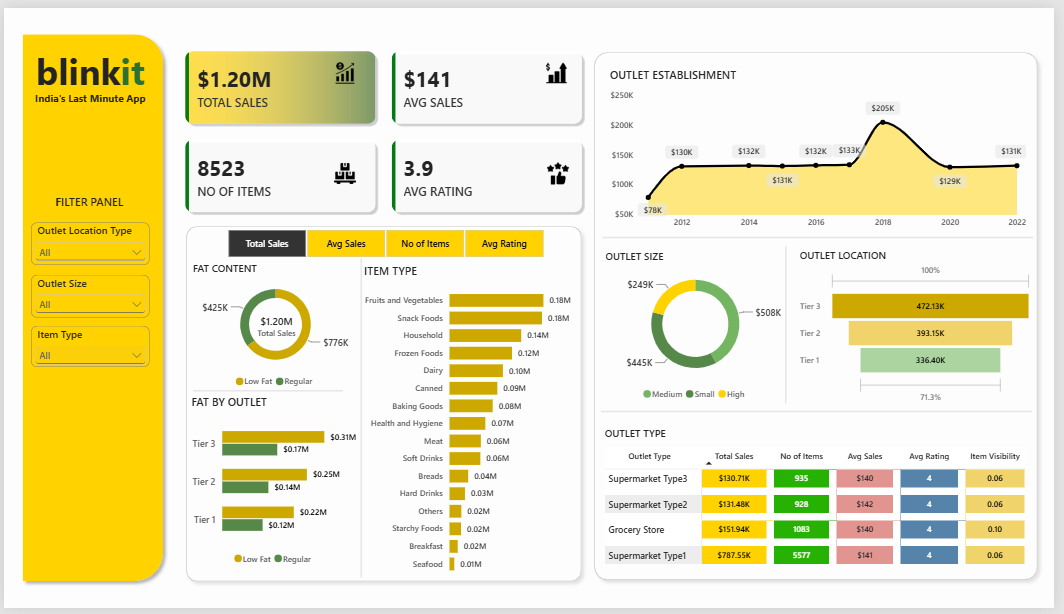

The page's visual inventory and layout, read from the dashboard file:
{"tool":"powerbi","page":{"name":"Page 1","canvas":[1400,800],"ordinal":0},"visuals":[{"type":"shape","box":[16,26,205,747],"z":0},{"type":"textbox","box":[36.7,50,158.3,71.7],"z":1000},{"type":"textbox","box":[36.7,110,158.3,23.3],"z":2000},{"type":"cardVisual","fields":{"Data":["BlinkIT Grocery Data.Total Sales","BlinkIT Grocery Data.Avg Sales","BlinkIT Grocery Data.No of Items","BlinkIT Grocery Data.Avg Rating"]},"box":[233.3,50,545,231.7],"z":3000},{"type":"image","box":[435,71.7,37,29],"z":4000},{"type":"image","box":[718.3,71.7,37,29],"z":5000},{"type":"image","box":[435,205,37,29],"z":6000},{"type":"image","box":[720,205,37,29],"z":7000},{"type":"shape","box":[233.3,281.7,545,491.7],"z":8000},{"type":"donutChart","title":"FAT CONTENT","fields":{"Y":["BlinkIT Grocery Data.Total Sales"],"Category":["BlinkIT Grocery Data.Item Fat Content"]},"box":[252.7,334.5,220,176.4],"z":9000},{"type":"slicer","fields":{"Values":["Metrics.Metrics"]},"box":[278.2,294.5,460,40],"z":10000},{"type":"cardVisual","fields":{"Data":["BlinkIT Grocery Data.Total Sales"]},"box":[320,405.5,87.3,36.4],"z":11000},{"type":"clusteredBarChart","title":"FAT BY OUTLET","fields":{"Y":["BlinkIT Grocery Data.Total Sales"],"Category":["BlinkIT Grocery Data.Outlet Location Type"],"Series":["BlinkIT Grocery Data.Item Fat Content"]},"box":[250.9,514.5,220,232.7],"z":12000},{"type":"shape","box":[252.7,494.5,200,32.7],"z":13000},{"type":"shape","box":[460,334.5,32.7,425.5],"z":14000},{"type":"barChart","title":"ITEM TYPE","fields":{"Y":["BlinkIT Grocery Data.Total Sales"],"Category":["BlinkIT Grocery Data.Item Type"]},"box":[476.4,334.5,280,425.5],"z":15000},{"type":"shape","box":[778.2,50.9,609.1,721.8],"z":16000},{"type":"lineChart","title":"OUTLET ESTABLISHMENT","fields":{"Category":["BlinkIT Grocery Data.Outlet Establishment Year"],"Y":["BlinkIT Grocery Data.Total Sales"]},"box":[798.2,70.9,574.5,234.5],"z":17000},{"type":"shape","box":[796.4,527.3,574.5,20],"z":18000},{"type":"donutChart","title":"OUTLET SIZE","fields":{"Y":["BlinkIT Grocery Data.Total Sales"],"Category":["BlinkIT Grocery Data.Outlet Size"]},"box":[798.2,318.2,243.6,209.1],"z":19000},{"type":"shape","box":[1025.5,318.2,32.7,209.1],"z":20000},{"type":"funnel","title":"OUTLET LOCATION","fields":{"Y":["Sum(BlinkIT Grocery Data.Sales)"],"Category":["BlinkIT Grocery Data.Outlet Location Type"]},"box":[1058.2,316.4,312.7,210.9],"z":21000},{"type":"shape","box":[798.2,296.4,574.5,20],"z":22000},{"type":"pivotTable","title":"OUTLET TYPE","fields":{"Rows":["BlinkIT Grocery Data.Outlet Type"],"Values":["BlinkIT Grocery Data.Total Sales","BlinkIT Grocery Data.No of Items","BlinkIT Grocery Data.Avg Sales","BlinkIT Grocery Data.Avg Rating","Avg(BlinkIT Grocery Data.Item Visibility)"]},"box":[798.2,547.3,574.5,200],"z":23000},{"type":"slicer","fields":{"Values":["BlinkIT Grocery Data.Outlet Location Type"]},"box":[36.4,285.5,158.2,56.4],"z":24000},{"type":"slicer","fields":{"Values":["BlinkIT Grocery Data.Outlet Size"]},"box":[36.4,356.4,158.2,56.4],"z":25000},{"type":"slicer","fields":{"Values":["BlinkIT Grocery Data.Item Type"]},"box":[36.4,423.6,158.2,54.5],"z":26000},{"type":"textbox","box":[52.7,247.3,123.6,20],"z":27000}]}

Visuals, with their boxes in screenshot pixels (x1, y1, x2, y2), scaled from the page's 1400x800 canvas onto the 1064x614 screenshot:
shape: BBox(12, 20, 168, 593)
textbox: BBox(28, 38, 148, 93)
textbox: BBox(28, 84, 148, 102)
cardVisual - BlinkIT Grocery Data.Total Sales x BlinkIT Grocery Data.Avg Sales: BBox(177, 38, 592, 216)
image: BBox(331, 55, 359, 77)
image: BBox(546, 55, 574, 77)
image: BBox(331, 157, 359, 180)
image: BBox(547, 157, 575, 180)
shape: BBox(177, 216, 592, 594)
"FAT CONTENT" donutChart: BBox(192, 257, 359, 392)
slicer - Metrics.Metrics: BBox(211, 226, 561, 257)
cardVisual - BlinkIT Grocery Data.Total Sales: BBox(243, 311, 310, 339)
"FAT BY OUTLET" clusteredBarChart: BBox(191, 395, 358, 573)
shape: BBox(192, 380, 344, 405)
shape: BBox(350, 257, 374, 583)
"ITEM TYPE" barChart: BBox(362, 257, 575, 583)
shape: BBox(591, 39, 1054, 593)
"OUTLET ESTABLISHMENT" lineChart: BBox(607, 54, 1043, 234)
shape: BBox(605, 405, 1042, 420)
"OUTLET SIZE" donutChart: BBox(607, 244, 792, 405)
shape: BBox(779, 244, 804, 405)
"OUTLET LOCATION" funnel: BBox(804, 243, 1042, 405)
shape: BBox(607, 227, 1043, 243)
"OUTLET TYPE" pivotTable: BBox(607, 420, 1043, 574)
slicer - BlinkIT Grocery Data.Outlet Location Type: BBox(28, 219, 148, 262)
slicer - BlinkIT Grocery Data.Outlet Size: BBox(28, 274, 148, 317)
slicer - BlinkIT Grocery Data.Item Type: BBox(28, 325, 148, 367)
textbox: BBox(40, 190, 134, 205)
